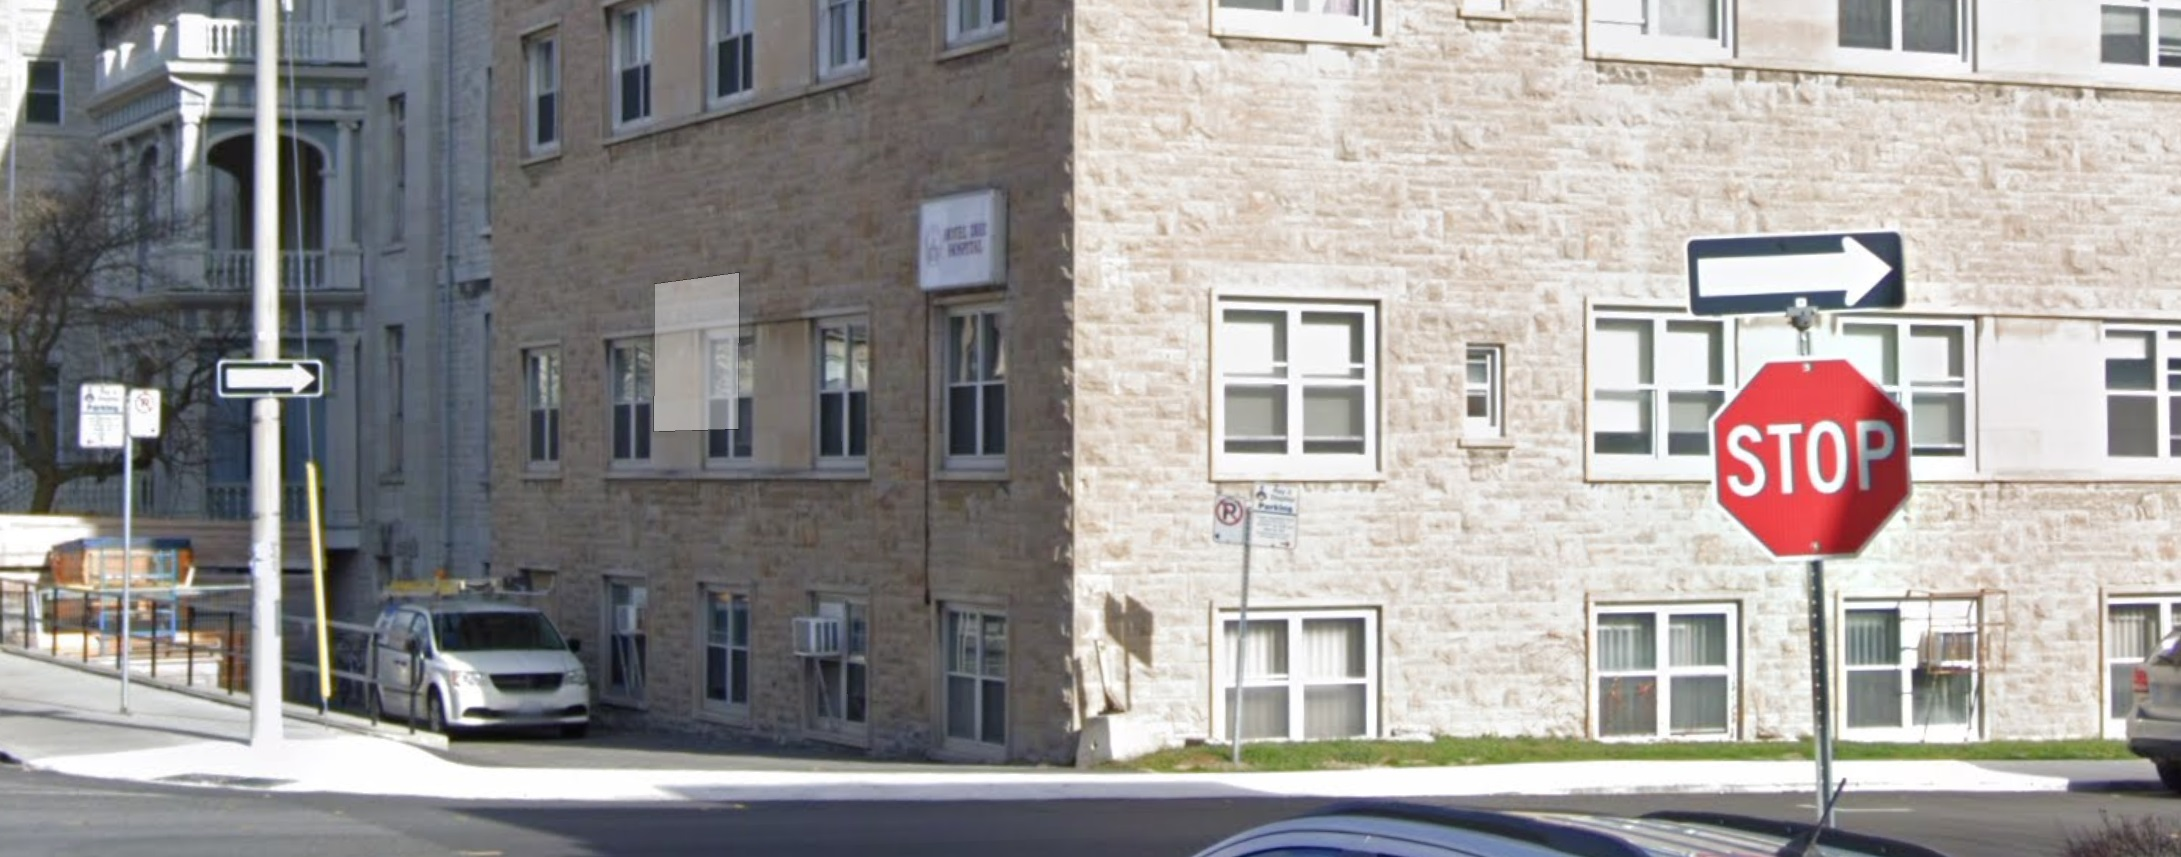sign_oneway_right: (1682, 227, 1910, 320), (217, 355, 324, 399)
sign_stop: (1707, 353, 1913, 561)
